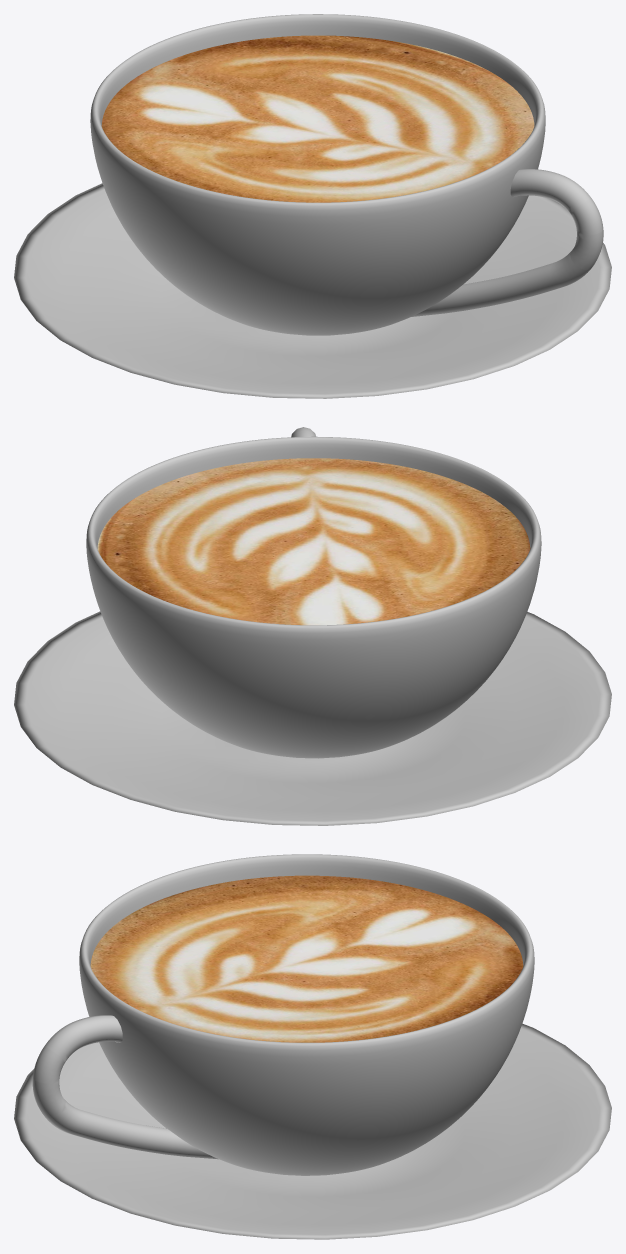
The model's file is scene_cup_co.glb.
The picture shows the model from 3 angles, top to bottom: view 1: azimuth 30°, elevation 25°; view 2: azimuth 150°, elevation 25°; view 3: azimuth 270°, elevation 25°; orthographic projection.
Parts seen in each view (by area): view 1: Sphere001, Object001_Material #26_0, Cylinder001, Line001; view 2: Cylinder001, Sphere001, Object001_Material #26_0; view 3: Sphere001, Object001_Material #26_0, Cylinder001, Line001.
Part boxes in pixels (x1=…): Sphere001: x1=90, y1=14, x2=545, y2=335; Object001_Material #26_0: x1=101, y1=35, x2=534, y2=202; Cylinder001: x1=14, y1=183, x2=611, y2=398; Line001: x1=411, y1=169, x2=603, y2=316; Cylinder001: x1=14, y1=611, x2=611, y2=825; Sphere001: x1=86, y1=436, x2=541, y2=758; Object001_Material #26_0: x1=97, y1=458, x2=530, y2=625; Sphere001: x1=79, y1=854, x2=534, y2=1175; Object001_Material #26_0: x1=90, y1=875, x2=523, y2=1042; Cylinder001: x1=14, y1=1023, x2=611, y2=1239; Line001: x1=32, y1=1015, x2=218, y2=1159.
Bounding box in the file's own units: 105 × 37.99 × 105.
Materials: 4 (1 with a texture image).
